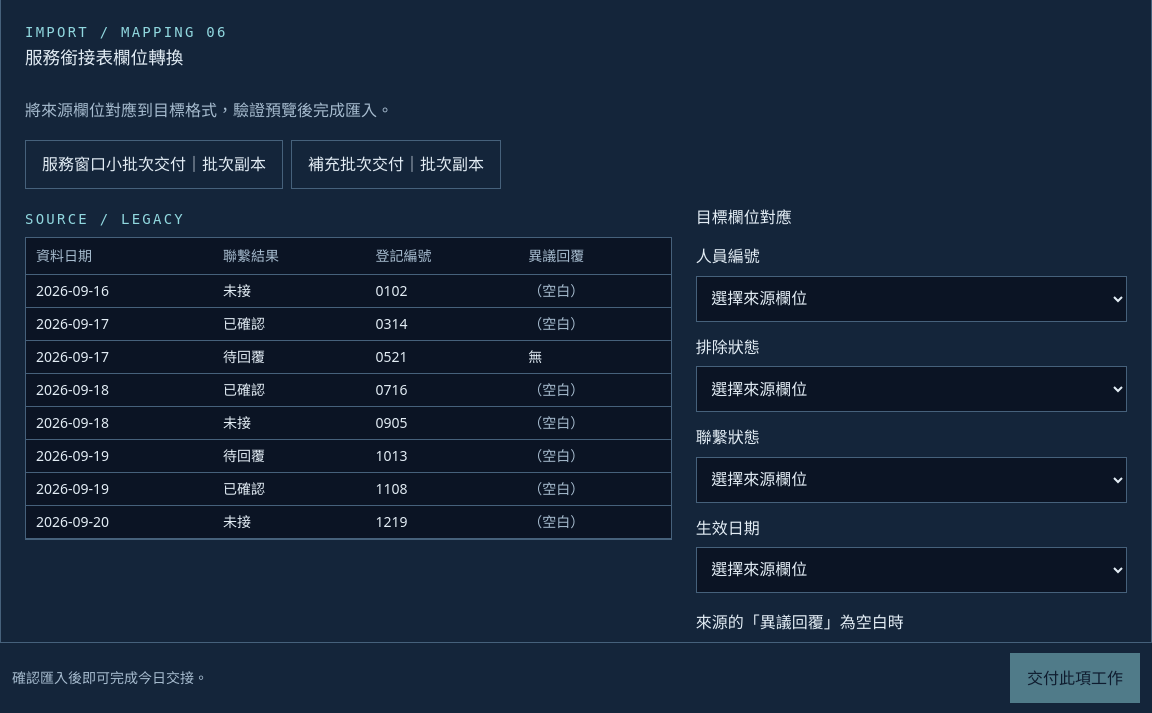
Test case: FieldMappingComponent（Day 6 欄位映射） › 正確對應但未選空白值處理時顯示處理方式錯誤
The width and height of the screenshot is (1152, 713).
Select "登記編號" in the dropdown labelled "人員編號". click: (911, 299)
box: [696,276,1127,322]
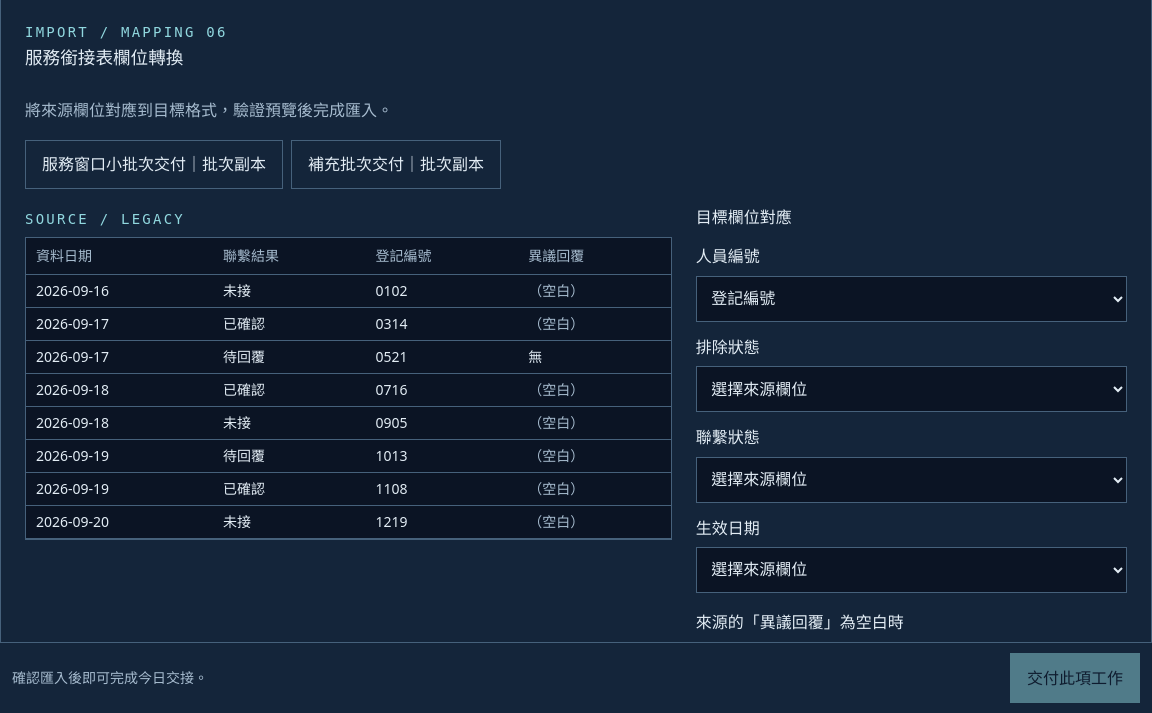
Select "異議回覆" in the dropdown labelled "排除狀態". click: (911, 389)
box: [696,366,1127,412]
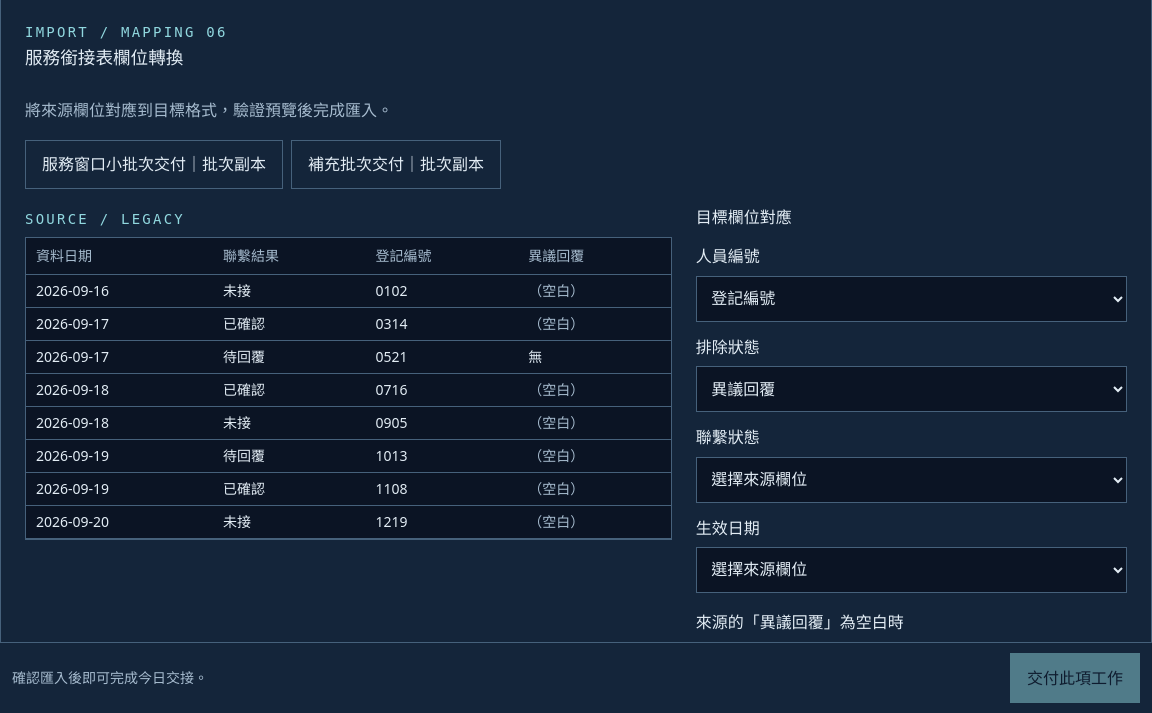
Select "聯繫結果" in the dropdown labelled "聯繫狀態". click: (911, 480)
box: [696,456,1127,502]
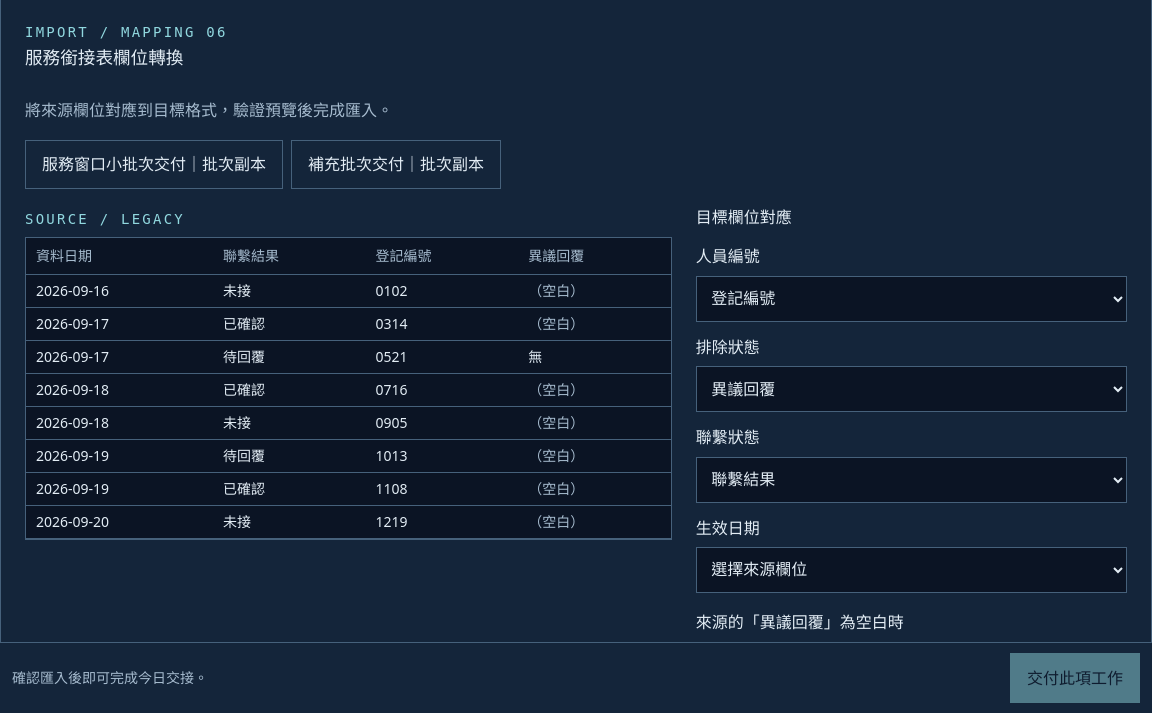
Select "資料日期" in the dropdown labelled "生效日期". click: (911, 570)
box: [696,547,1127,593]
(page scrolled)
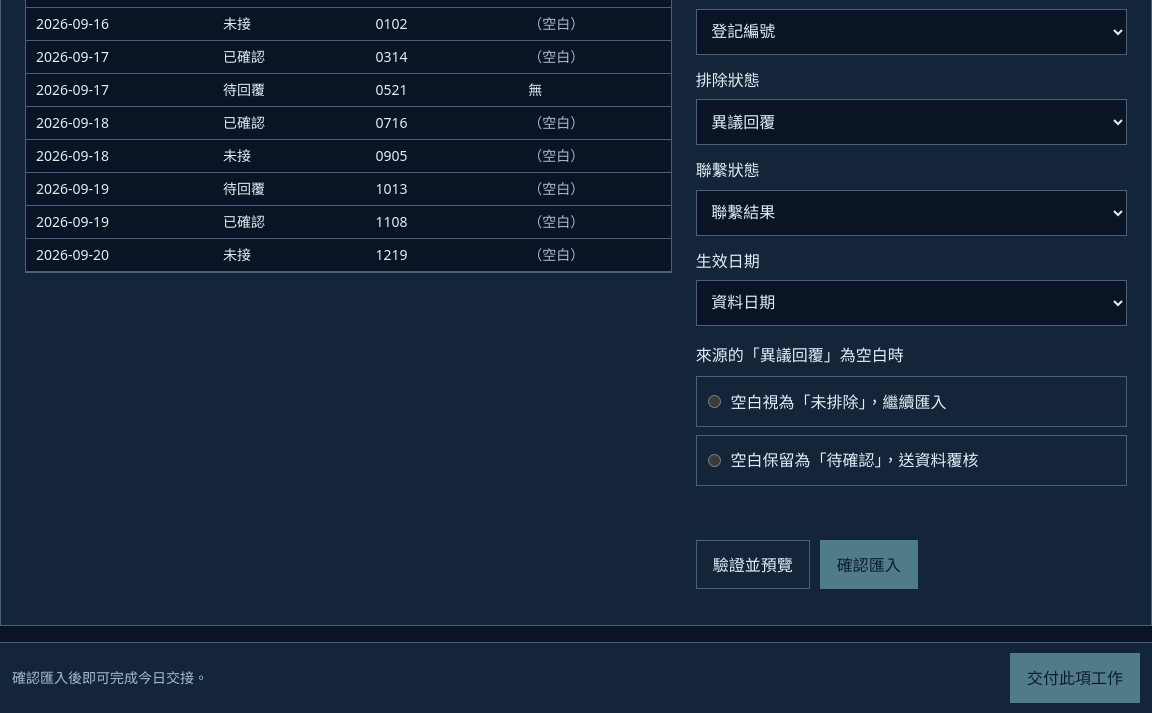
Click the button "驗證並預覽". click: (753, 565)
box: [696,540,810,589]
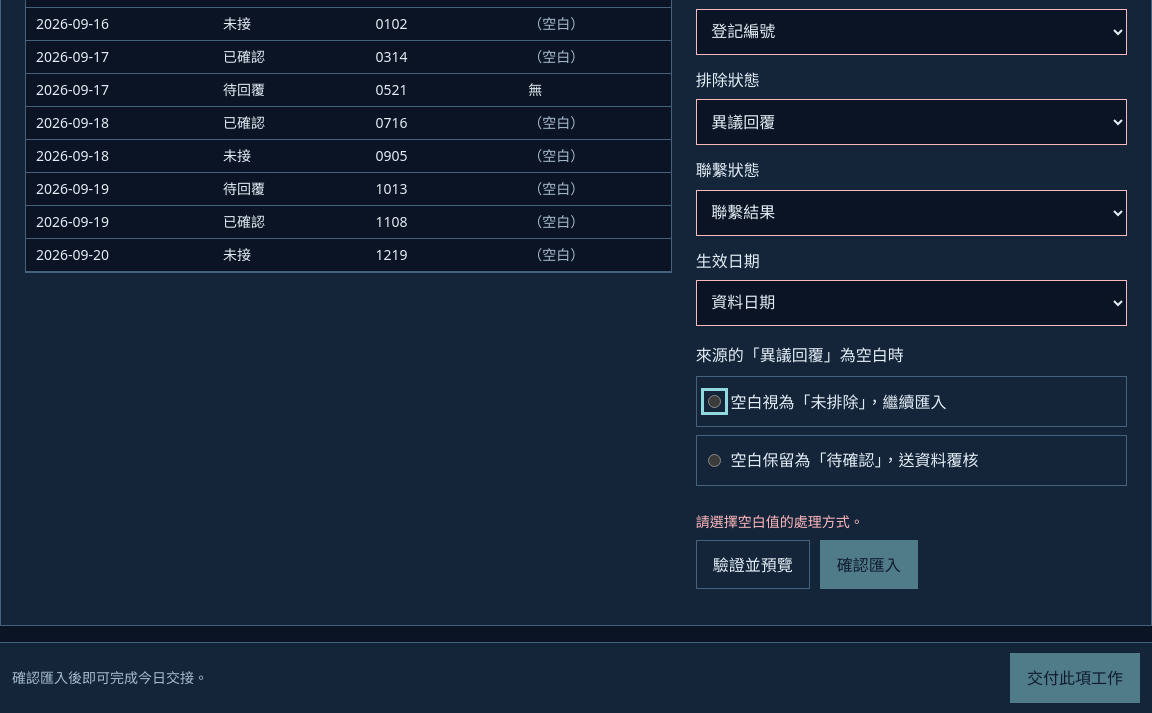
Check: the button "確認匯入" is disabled, box [820,540,918,589]
Check: the message with id "field-map-error" reads "請選擇空白值的處理方式。", box [696,512,864,531]
